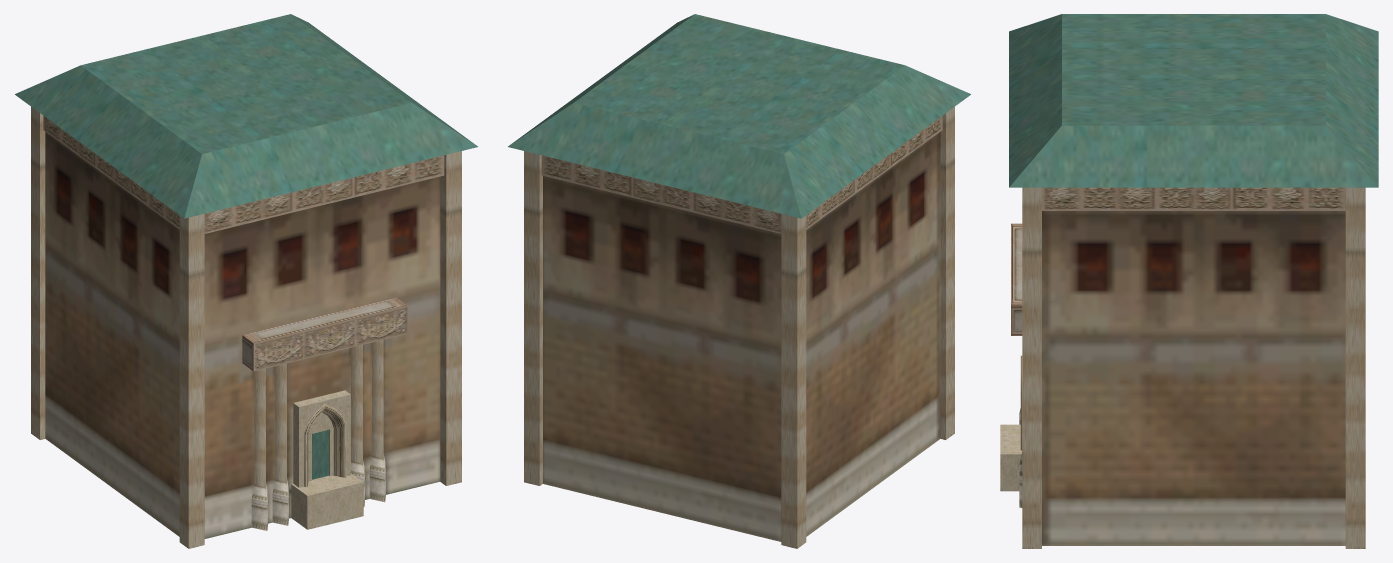
File: thm_nboo_thed_imprv_building_s04_l2.fbx
3 views of the same model, side by side, from view 1: azimuth 30°, elevation 25°; view 2: azimuth 150°, elevation 25°; view 3: azimuth 270°, elevation 25° (orthographic). The views are drawn at different scales.
Visible parts, largest first — view 1: mesh_node; view 2: mesh_node; view 3: mesh_node.
Part boxes in pixels (x1,y1,x2,y2): mesh_node: [15, 14, 477, 548]; mesh_node: [508, 14, 970, 548]; mesh_node: [1000, 14, 1378, 548].
Bounding box in the file's own units: 21 × 25.5 × 21.5.
